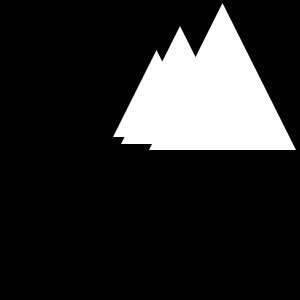triangle: (149, 3, 296, 150), (121, 26, 239, 144), (113, 50, 200, 137)
